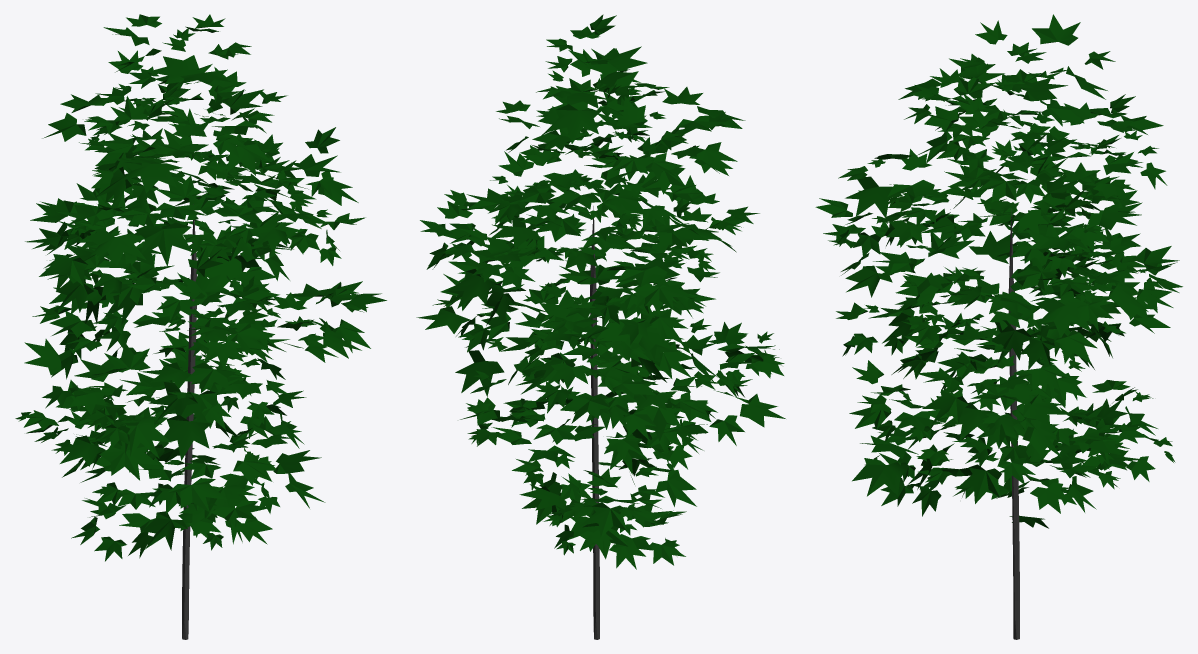
The picture shows the model from 3 angles, left to right: view 1: azimuth 30°, elevation 25°; view 2: azimuth 150°, elevation 25°; view 3: azimuth 270°, elevation 25°; orthographic projection. The views are drawn at different scales.
Parts seen in each view (by area): view 1: Tree1; view 2: Tree1; view 3: Tree1.
Boxes of the visible parts, x1=… form: Tree1: x1=15, y1=14, x2=386, y2=639; Tree1: x1=416, y1=14, x2=785, y2=639; Tree1: x1=815, y1=14, x2=1182, y2=639.
Size of the model in its own units: 86.48 by 148 by 80.21.
